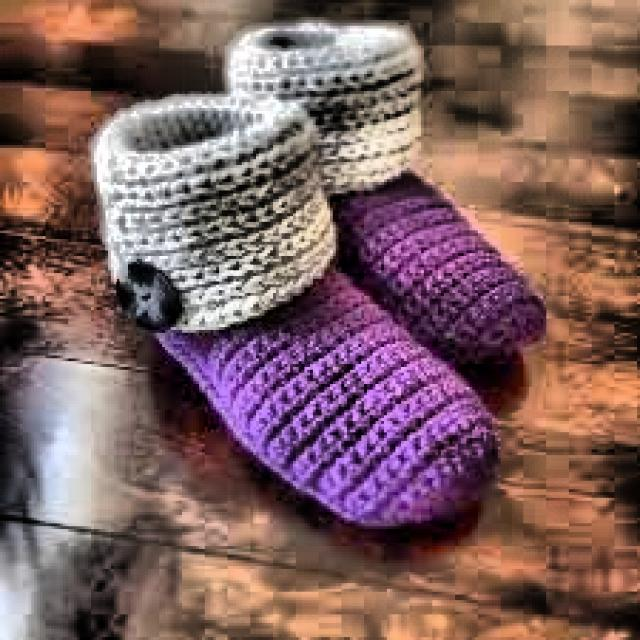shoes: (77, 22, 590, 542)
